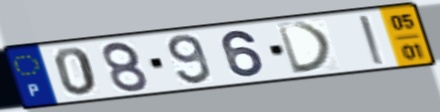0: (51, 46, 99, 98)
6: (220, 28, 267, 79)
8: (100, 40, 150, 94)
9: (166, 33, 214, 86)
D: (273, 20, 336, 76)
I: (356, 13, 389, 67)
